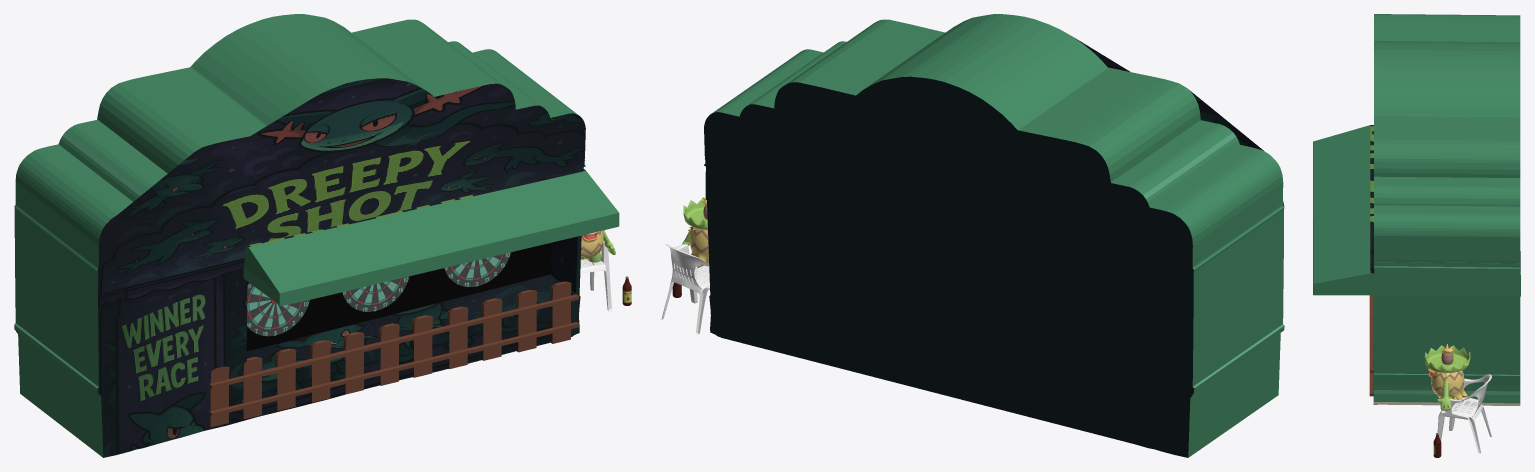
Rendered from dreepy_shot.obj.
3 renders of one model, left to right at view 1: azimuth 30°, elevation 25°; view 2: azimuth 150°, elevation 25°; view 3: azimuth 270°, elevation 25°, orthographic. The views are drawn at different scales.
Visible parts, largest first — view 1: Cylinder.002; view 2: Cylinder.002; view 3: Cylinder.002.
Boxes of the visible parts, x1,y1,x2,y2 form: Cylinder.002: (14,14,631,457); Cylinder.002: (660,14,1284,457); Cylinder.002: (1313,14,1520,457).
Size of the model in its own units: 13.3 by 7.31 by 4.96.
Materials: 16 (16 with a texture image).
